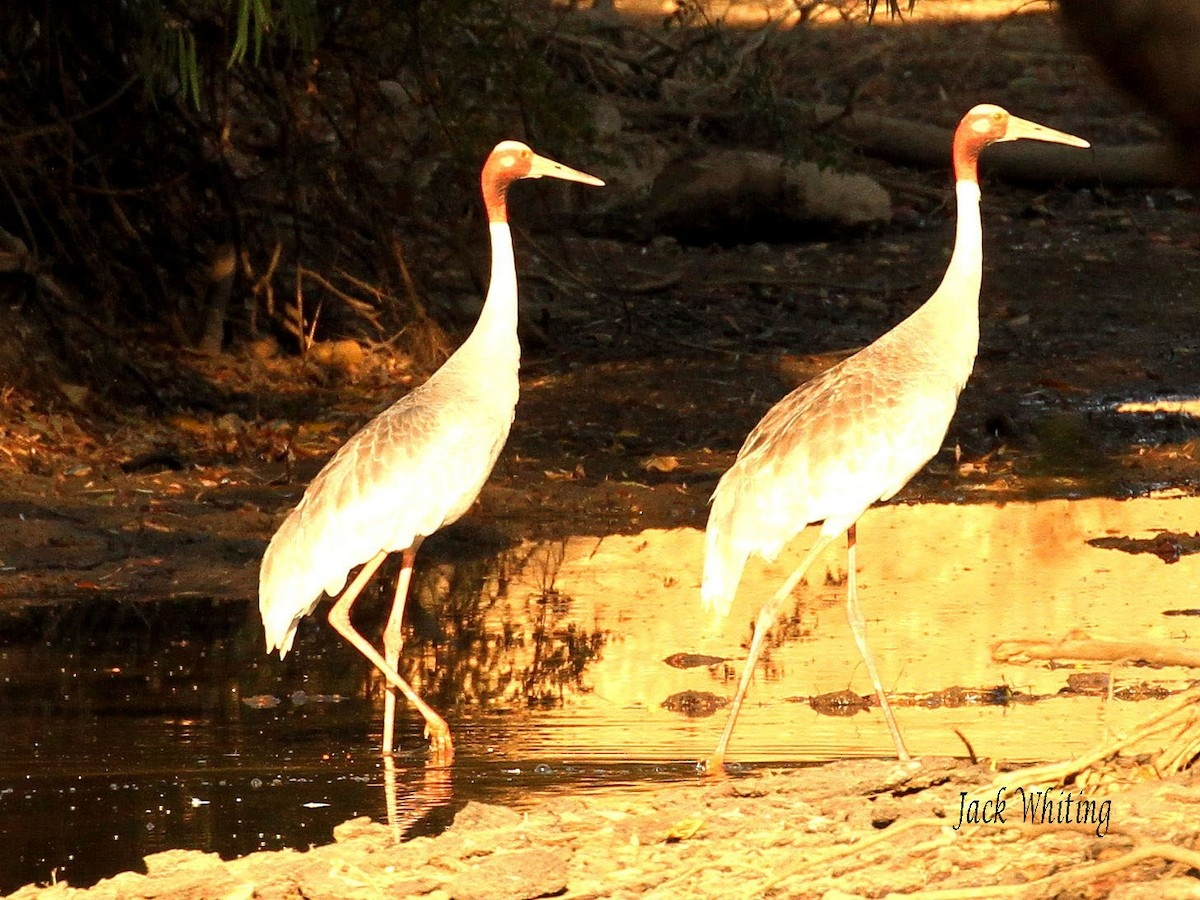crane: (678, 97, 1095, 782), (255, 134, 607, 818)
